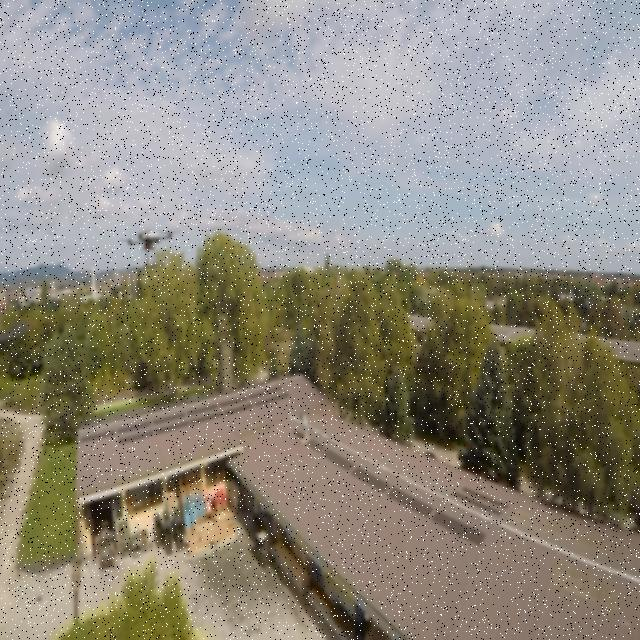UAV: (119, 225, 179, 273)
